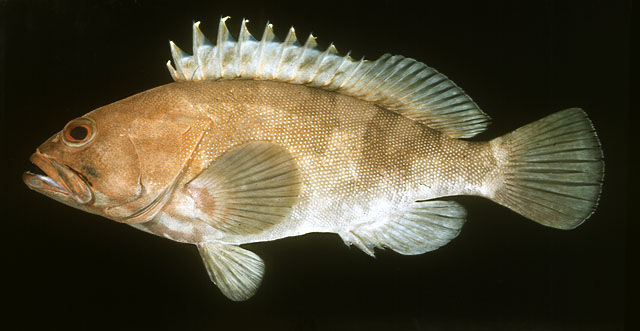fish: (21, 15, 607, 303)
